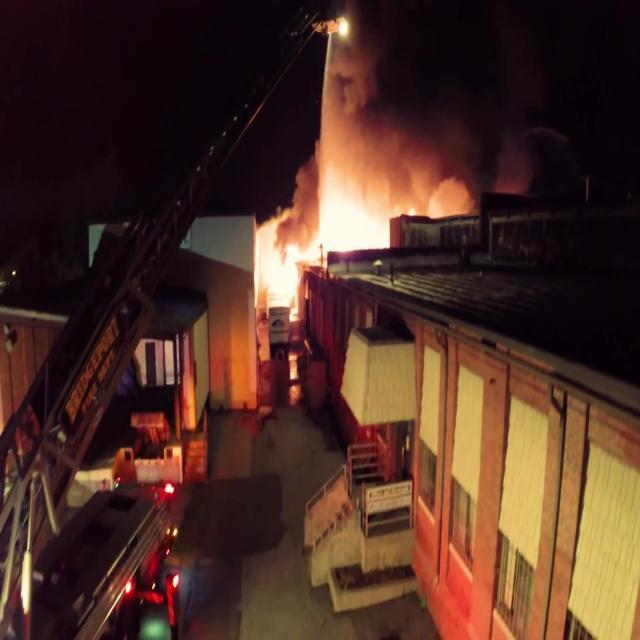Fire: (254, 203, 396, 316)
Smoke: (272, 32, 474, 200)
